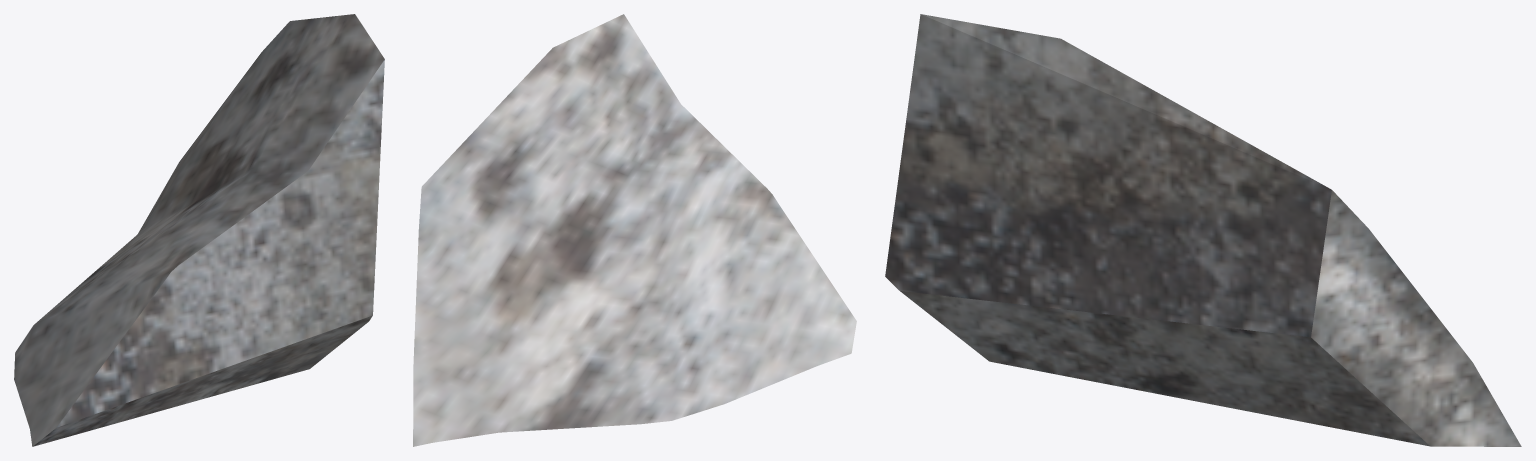
File: Asteroid_Large_001_02_011_03_006.fbx
3 views of the same model, side by side, from view 1: azimuth 30°, elevation 25°; view 2: azimuth 150°, elevation 25°; view 3: azimuth 270°, elevation 25° (orthographic). The views are drawn at different scales.
Visible parts, largest first — view 1: Asteroid_Large_001_02_011_03_006; view 2: Asteroid_Large_001_02_011_03_006; view 3: Asteroid_Large_001_02_011_03_006.
Part boxes in pixels (x1,y1,x2,y2): Asteroid_Large_001_02_011_03_006: (14,14,384,446); Asteroid_Large_001_02_011_03_006: (413,14,856,446); Asteroid_Large_001_02_011_03_006: (885,14,1521,446).
Bounding box in the file's own units: 5.39 × 4.68 × 6.33.
